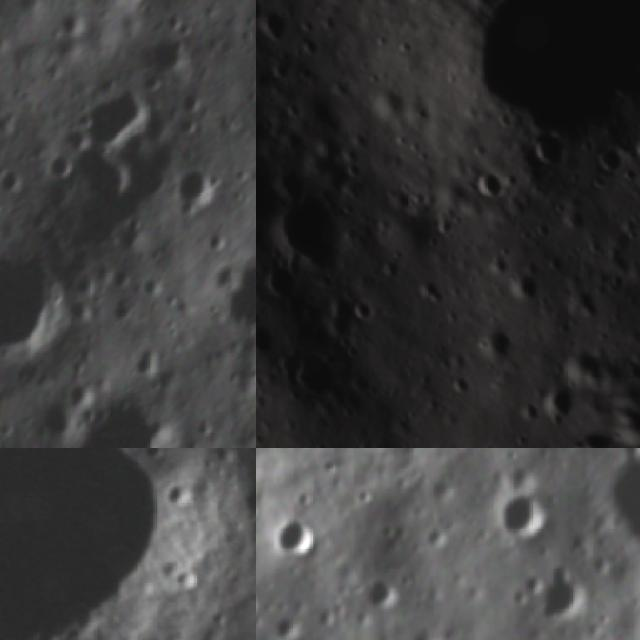crater: (0, 448, 236, 640), (258, 180, 373, 298), (256, 106, 320, 257), (264, 334, 355, 426), (70, 384, 167, 448), (0, 248, 62, 348), (76, 82, 157, 154), (535, 554, 601, 629), (459, 311, 527, 379), (516, 120, 583, 187), (598, 448, 640, 548), (457, 154, 522, 218), (494, 256, 555, 320), (256, 251, 312, 317), (531, 375, 589, 434), (82, 158, 142, 208), (496, 488, 556, 538), (222, 250, 256, 329), (268, 514, 324, 560), (141, 30, 195, 76), (168, 162, 218, 211), (256, 0, 305, 49), (256, 310, 285, 370), (365, 575, 405, 613), (256, 35, 279, 100), (622, 121, 640, 176), (403, 624, 449, 640)
